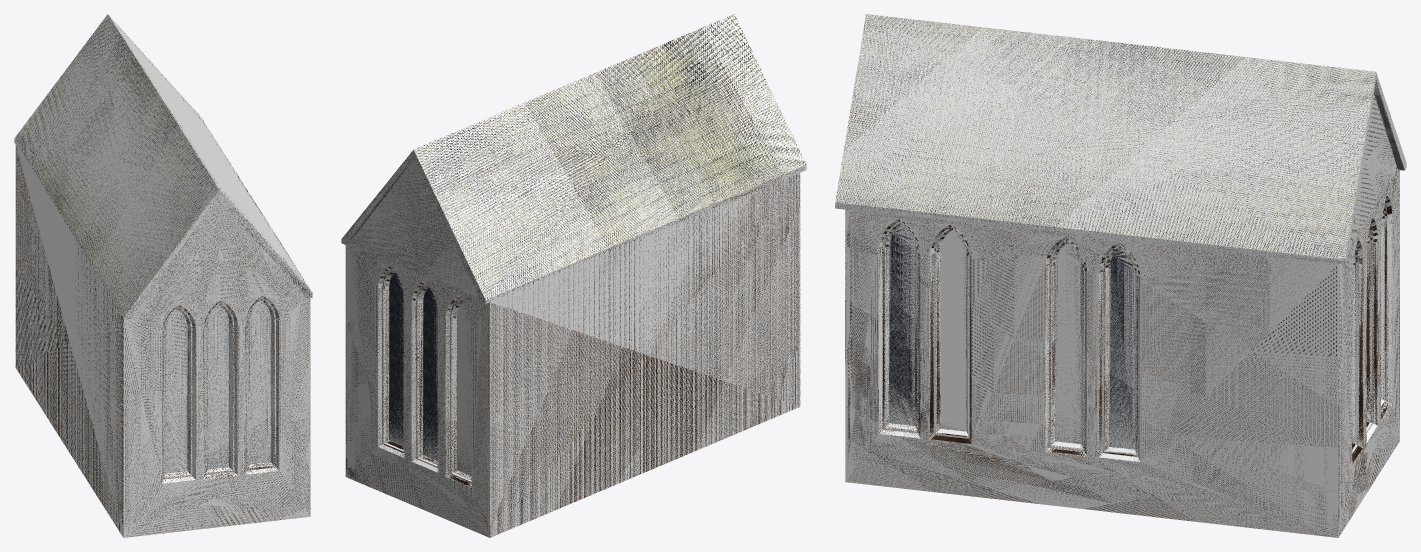
File: Chapter-House.fbx
The picture shows the model from 3 angles, left to right: view 1: azimuth 30°, elevation 25°; view 2: azimuth 150°, elevation 25°; view 3: azimuth 270°, elevation 25°; orthographic projection. The views are drawn at different scales.
Visible parts, largest first — view 1: Chapter_House1; view 2: Chapter_House1; view 3: Chapter_House1.
Part boxes in pixels (bbox=[...]): Chapter_House1: bbox=[14, 14, 312, 537]; Chapter_House1: bbox=[341, 14, 806, 537]; Chapter_House1: bbox=[835, 14, 1406, 537].
Size of the model in its own units: 12.03 by 15.18 by 18.78.
